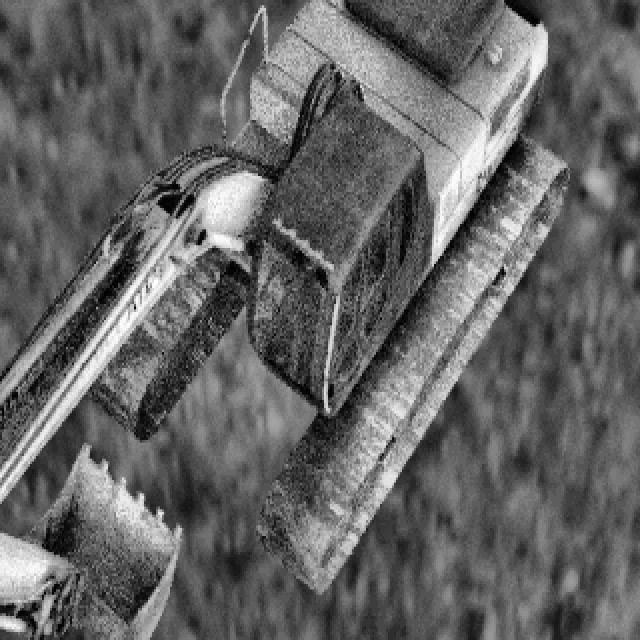excavator: (0, 0, 568, 640)
